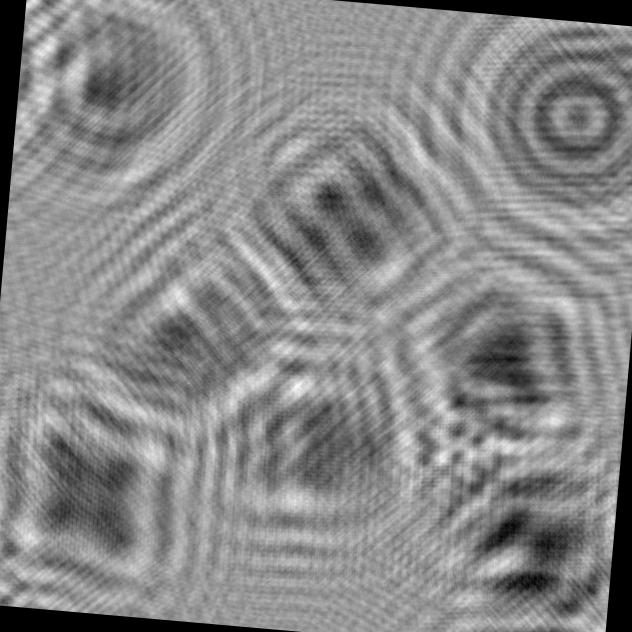A: (360, 224, 632, 490)
H: (201, 55, 518, 366)
J: (9, 0, 261, 217)
L: (44, 170, 352, 468)
O: (424, 10, 632, 260)
T: (178, 312, 456, 572)
W: (385, 407, 623, 632)
X: (0, 346, 241, 624)
